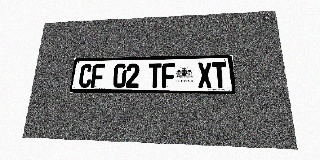0: (113, 64, 127, 88)
2: (126, 63, 140, 88)
C: (78, 64, 93, 88)
F: (91, 64, 105, 88), (162, 63, 175, 88)
T: (212, 62, 228, 88), (148, 63, 162, 88)
X: (197, 62, 213, 88)
